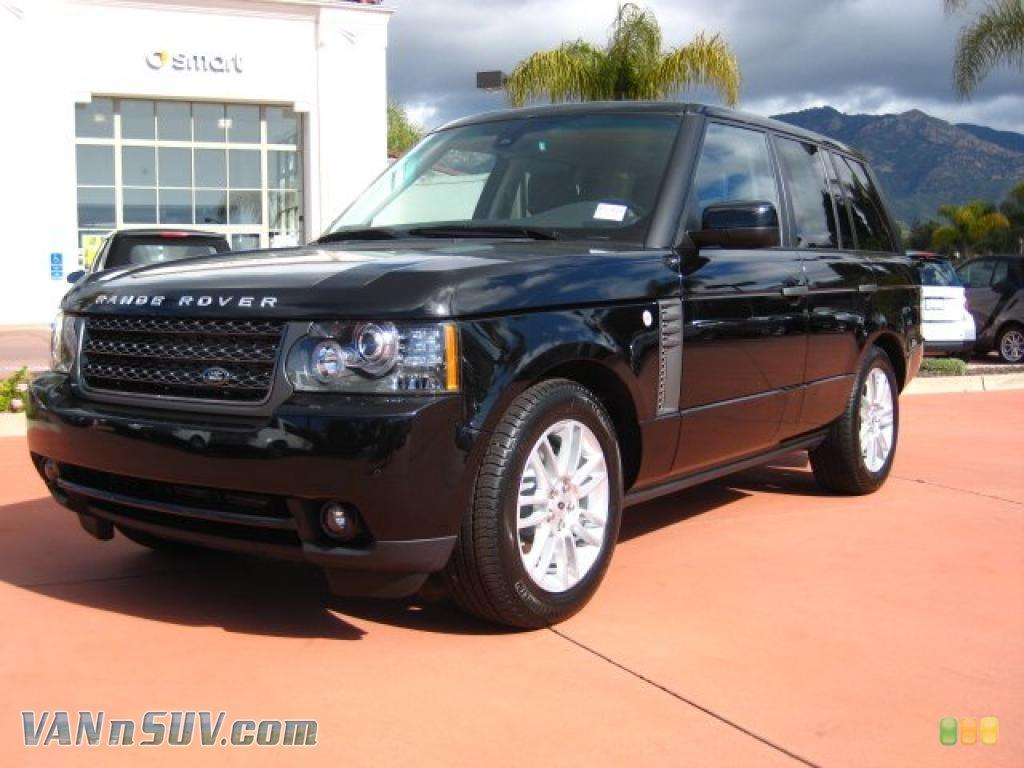range rover: (89, 281, 291, 322)
